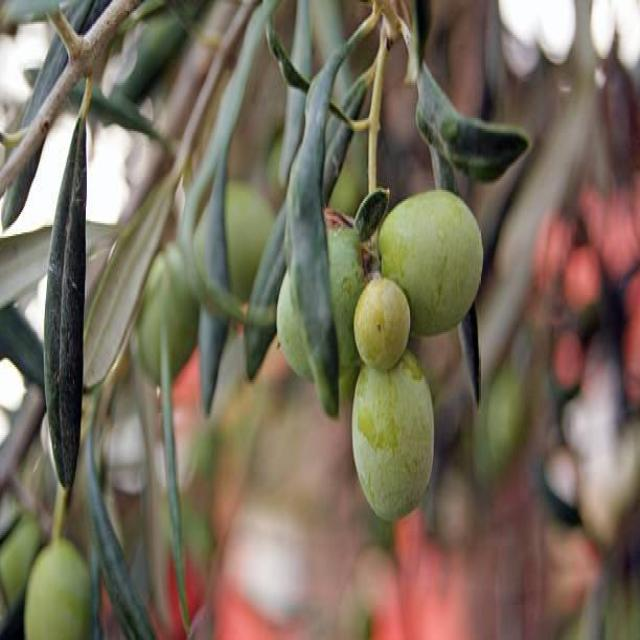Healthy: (379, 190, 482, 336), (352, 361, 433, 520), (25, 537, 89, 638), (355, 273, 409, 369)
